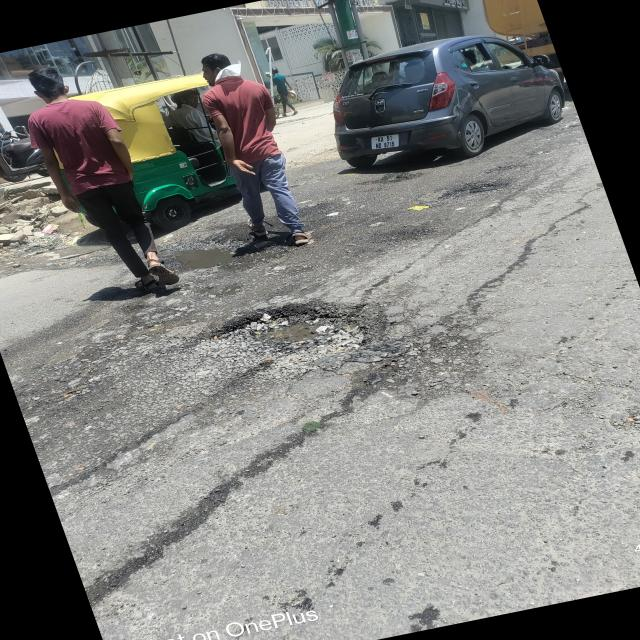potholes: (223, 306, 365, 358), (168, 242, 238, 268), (404, 205, 431, 219)
